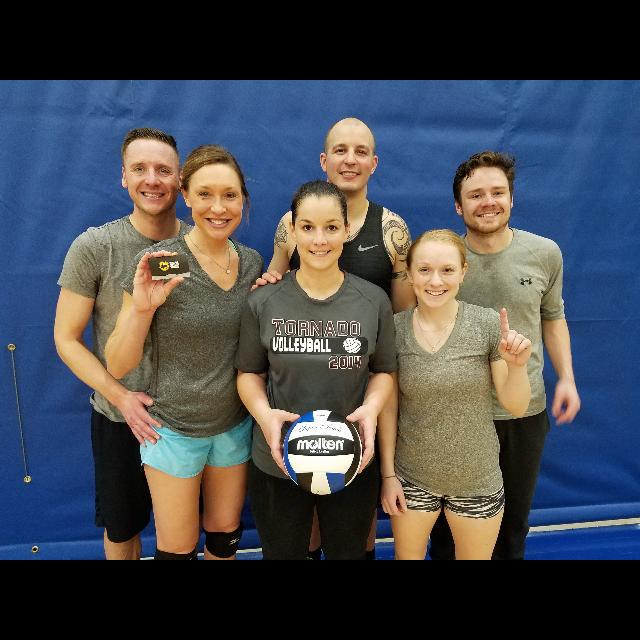head: (179, 145, 247, 241), (288, 183, 352, 271), (402, 228, 470, 310), (120, 128, 184, 215), (319, 117, 379, 193), (454, 162, 514, 234)
